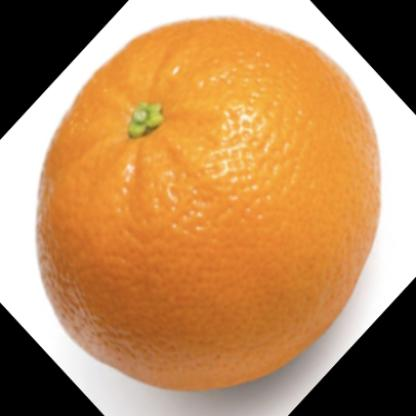fresh: (38, 19, 381, 393)
